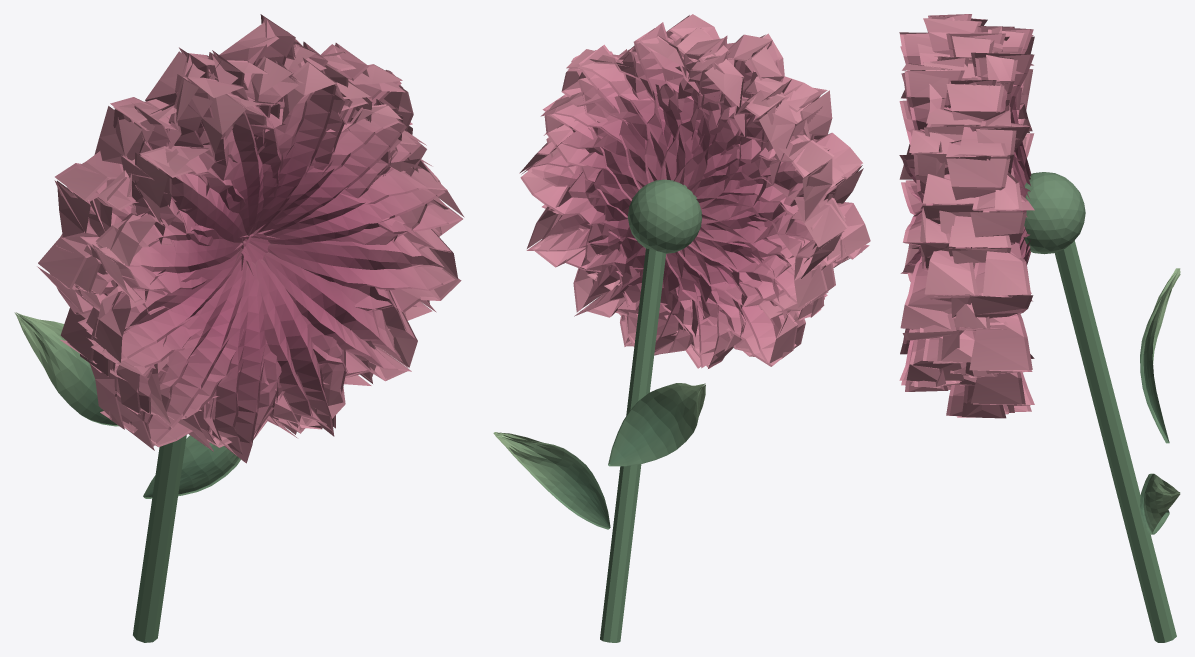
File: garofano.glb
3 views of the same model, side by side, from view 1: azimuth 30°, elevation 25°; view 2: azimuth 150°, elevation 25°; view 3: azimuth 270°, elevation 25° (orthographic). The views are drawn at different scales.
Parts seen in each view (by area): view 1: PETALO_051, PETALO_050, PETALO_049, PETALO_046, PETALO_048, PETALO_045, PETALO_047, PETALO_042, PETALO_040, PETALO_044, PETALO_043, PETALO_041 (+28 smaller); view 2: PETALO_006, STELO_PRINCIPALE, PETALO_007, PETALO_005, PETALO_004, PETALO_003, PETALO_009, FOGLIA_L_1, PETALO_013, PETALO_008, PETALO_000, PETALO_002 (+16 smaller); view 3: STELO_PRINCIPALE, CALICE, PETALO_000, PETALO_015, PETALO_001, PETALO_013, PETALO_051, PETALO_042, PETALO_027, PETALO_003, FOGLIA_L_1, PETALO_016 (+21 smaller).
Boxes of the visible parts, bbox=[...] form: PETALO_051: bbox=[267, 220, 461, 312]; PETALO_050: bbox=[263, 252, 417, 381]; PETALO_049: bbox=[255, 259, 346, 436]; PETALO_046: bbox=[87, 249, 243, 376]; PETALO_048: bbox=[203, 261, 284, 463]; PETALO_045: bbox=[92, 208, 243, 314]; PETALO_047: bbox=[147, 259, 253, 428]; PETALO_042: bbox=[255, 58, 352, 233]; PETALO_040: bbox=[267, 158, 447, 244]; PETALO_044: bbox=[135, 146, 253, 249]; PETALO_043: bbox=[199, 93, 295, 237]; PETALO_041: bbox=[263, 99, 406, 238]; PETALO_006: bbox=[673, 135, 834, 243]; STELO_PRINCIPALE: bbox=[600, 248, 666, 642]; PETALO_007: bbox=[687, 172, 848, 279]; PETALO_005: bbox=[660, 89, 796, 224]; PETALO_004: bbox=[644, 50, 746, 209]; PETALO_003: bbox=[618, 22, 710, 194]; PETALO_009: bbox=[665, 214, 797, 366]; FOGLIA_L_1: bbox=[608, 383, 705, 466]; PETALO_013: bbox=[526, 168, 645, 276]; PETALO_008: bbox=[677, 198, 827, 319]; PETALO_000: bbox=[519, 127, 656, 240]; PETALO_002: bbox=[577, 44, 685, 201]; STELO_PRINCIPALE: bbox=[1054, 240, 1176, 642]; CALICE: bbox=[1021, 172, 1085, 254]; PETALO_000: bbox=[970, 186, 1033, 318]; PETALO_015: bbox=[946, 124, 1010, 204]; PETALO_001: bbox=[970, 157, 1034, 258]; PETALO_013: bbox=[969, 210, 1032, 373]; PETALO_051: bbox=[900, 242, 964, 340]; PETALO_042: bbox=[901, 63, 964, 129]; PETALO_027: bbox=[924, 242, 986, 318]; PETALO_003: bbox=[971, 51, 1034, 217]; FOGLIA_L_1: bbox=[1140, 268, 1180, 443]; PETALO_016: bbox=[946, 77, 1010, 126].
Bounding box in the file's own units: 1.51 × 2.58 × 1.09.
